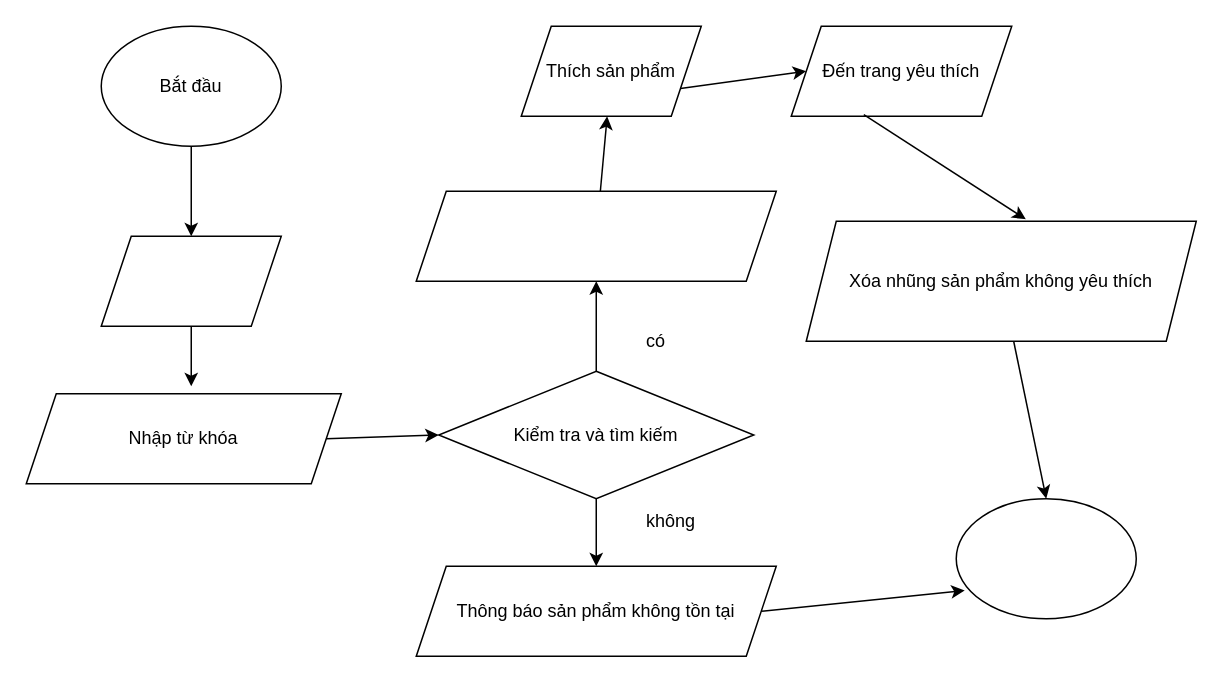
Image size: 1223x683. Some labels were removed from this diagram. Each missing label, with the centre of its shape:
"Hiển thị sản phẩm" belongs at point (595, 235).
"kết thúc" belongs at point (1045, 558).
"Xem danh sách" belongs at point (190, 280).
